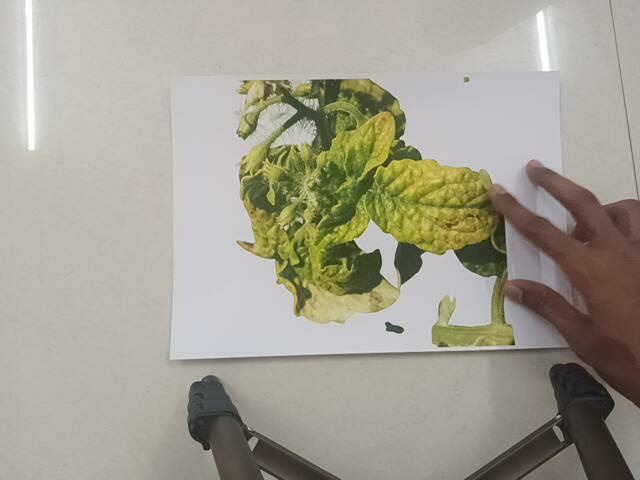Tomamto_Leaf_curl_virus: (231, 68, 492, 350)
